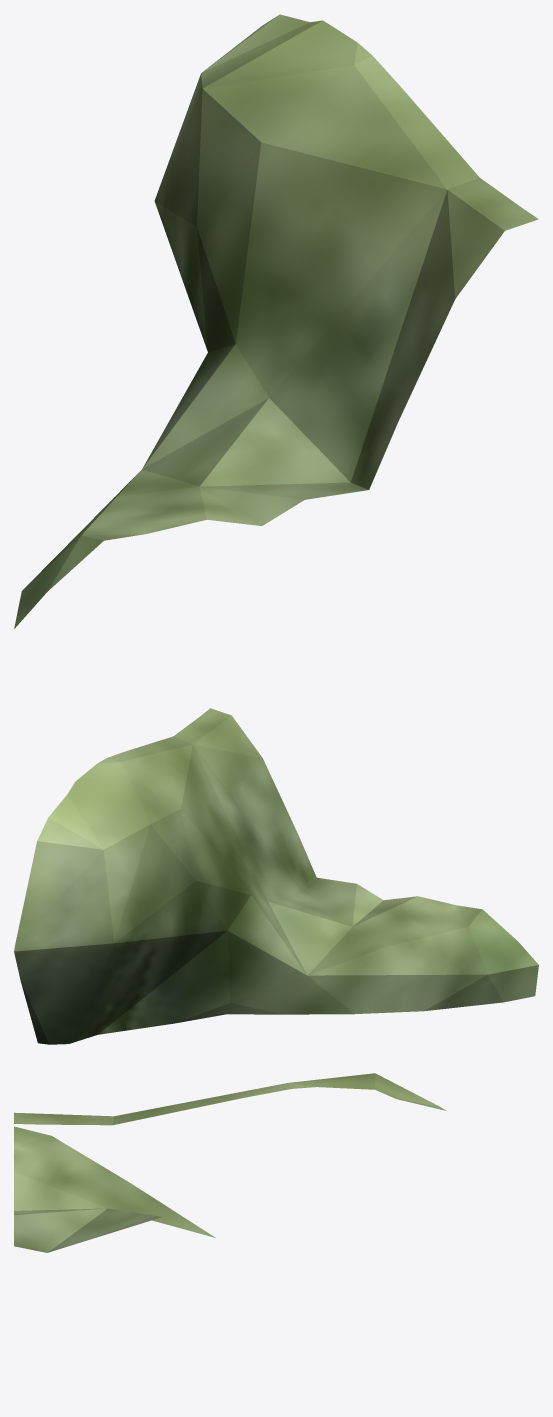
3 renders of one model, top to bottom at view 1: azimuth 30°, elevation 25°; view 2: azimuth 150°, elevation 25°; view 3: azimuth 270°, elevation 25°, orthographic. The views are drawn at different scales.
Size of the model in its own units: 0.4883 by 0.3357 by 0.5059.
1 material, 1 textured.
